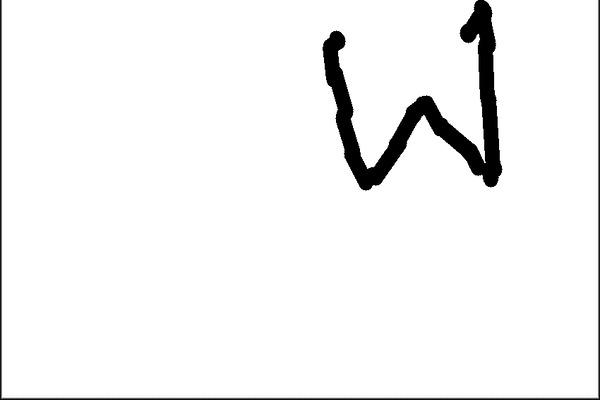w: (316, 1, 517, 203)
